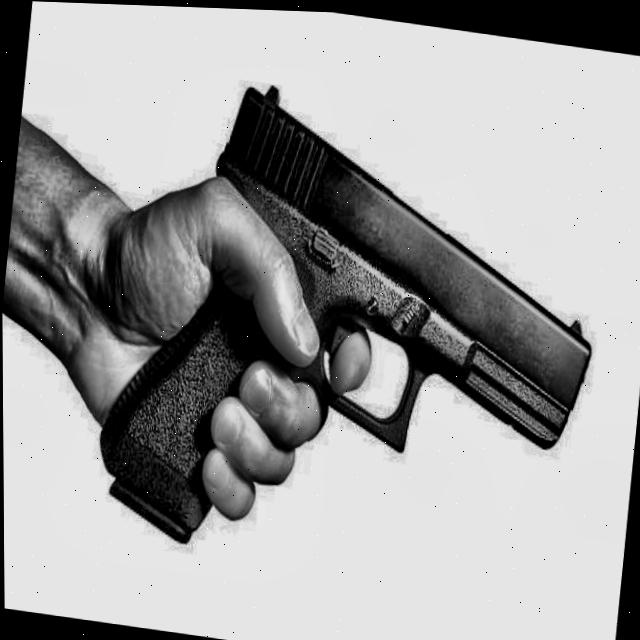pistol: (74, 43, 627, 612)
